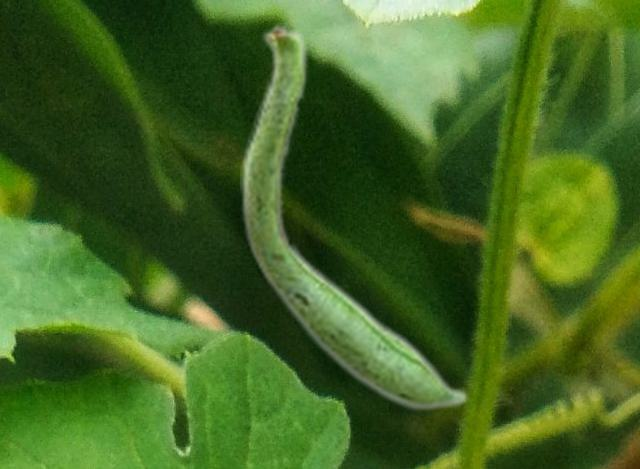french_bean: (240, 20, 468, 411)
